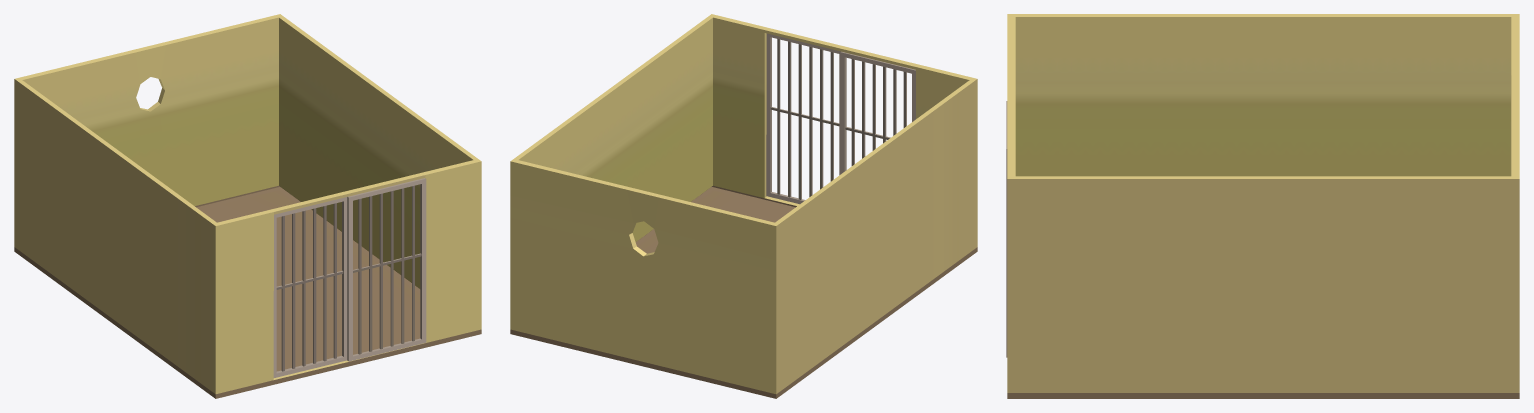
Rendered from cell block.fbx.
3 views of the same model, side by side, from view 1: azimuth 30°, elevation 25°; view 2: azimuth 150°, elevation 25°; view 3: azimuth 270°, elevation 25° (orthographic). The views are drawn at different scales.
Parts seen in each view (by area): view 1: cell block, gate blend, gate 1; view 2: cell block, gate blend, gate 1; view 3: cell block, gate blend.
Boxes of the visible parts, <box> form: cell block: <box>14,14,481,398</box>; gate blend: <box>347,178,426,361</box>; gate 1: <box>273,197,347,377</box>; cell block: <box>510,14,977,398</box>; gate blend: <box>766,33,840,204</box>; gate 1: <box>840,51,915,173</box>; cell block: <box>1007,14,1519,398</box>; gate blend: <box>1006,101,1007,357</box>.
Bounding box in the file's own units: 2113 × 1312 × 2775.
1 material, 1 textured.
